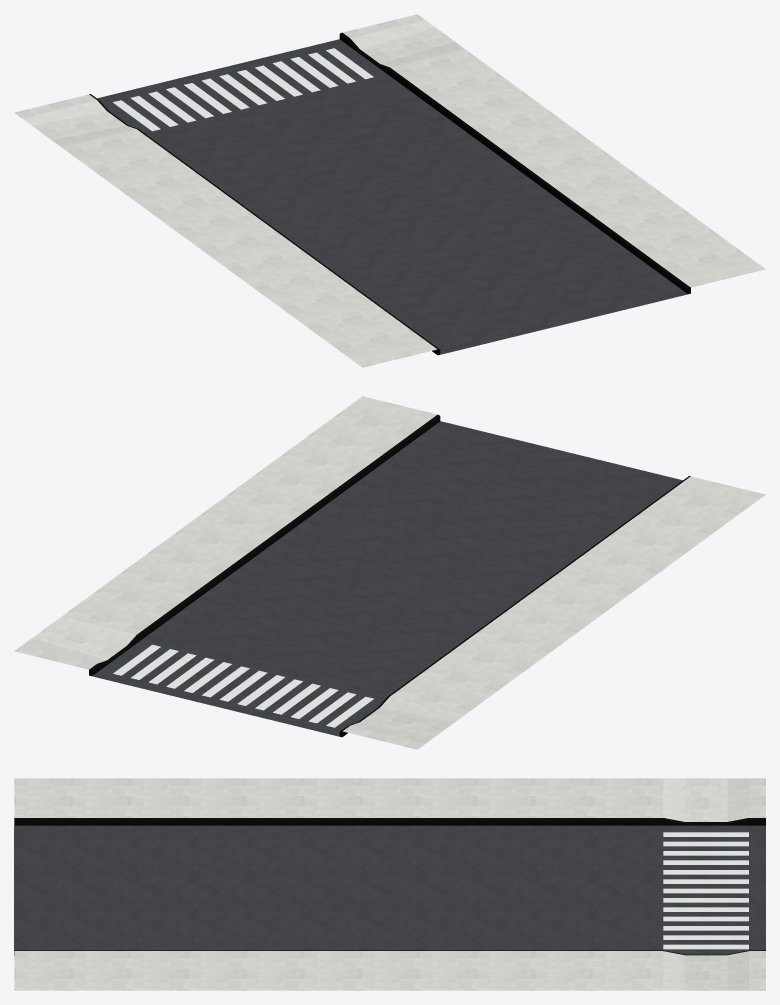
The model's file is esquina 2 carril y estacionamiento 1.fbx.
The picture shows the model from 3 angles, top to bottom: view 1: azimuth 30°, elevation 25°; view 2: azimuth 150°, elevation 25°; view 3: azimuth 270°, elevation 25°; orthographic projection. The views are drawn at different scales.
Visible parts, largest first — view 1: Callle 1 carril con un lugar para estacionar.006; view 2: Callle 1 carril con un lugar para estacionar.006; view 3: Callle 1 carril con un lugar para estacionar.006.
Part boxes in pixels (x1=…): Callle 1 carril con un lugar para estacionar.006: x1=14, y1=14, x2=765, y2=367; Callle 1 carril con un lugar para estacionar.006: x1=14, y1=396, x2=765, y2=749; Callle 1 carril con un lugar para estacionar.006: x1=14, y1=778, x2=765, y2=990.
Size of the model in its own units: 1336 by 30.85 by 2000.
Materials: 4 (4 with a texture image).
